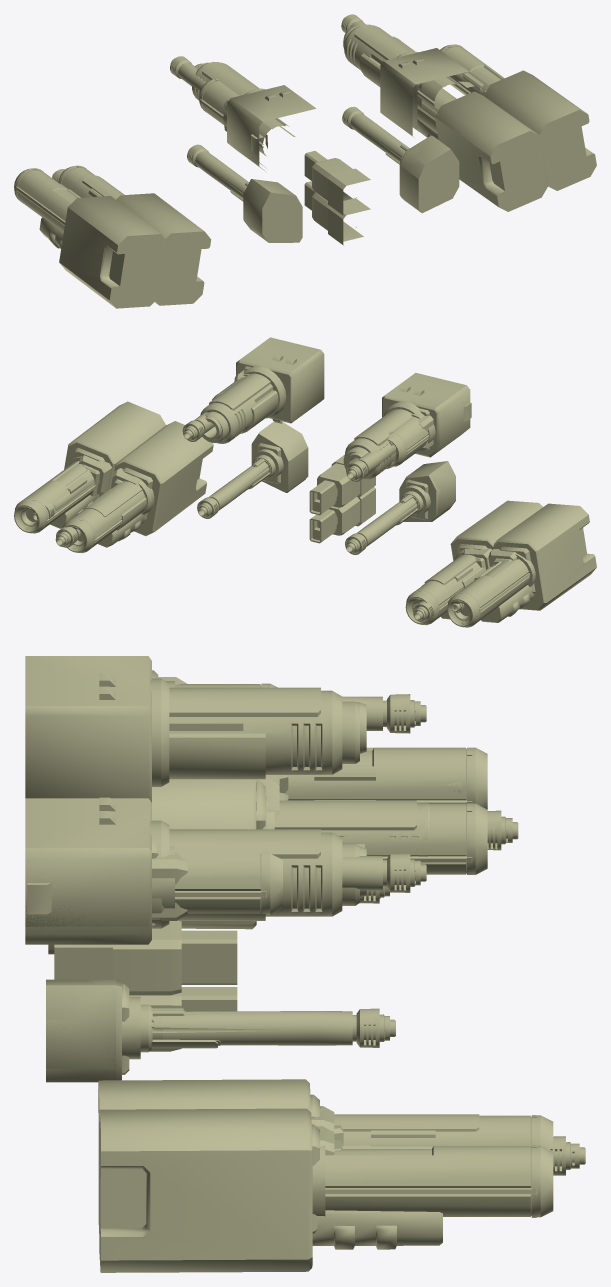
Rendered from FirestarterWeapons.glb.
3 views of the same model, one above another, from view 1: azimuth 30°, elevation 25°; view 2: azimuth 150°, elevation 25°; view 3: azimuth 270°, elevation 25° (orthographic). The views are drawn at different scales.
Visible parts, largest first — view 1: Forearm_Left_EH2_PPC, Forearm_Right_EH2_PPC, Forearm_Right_EH1_PPC, Torso_Right_BH1_AC20, Forearm_Right_BH1_AC10, Forearm_Left_EH1_PPC, Torso_Right_BH2_AC5, Torso_Left_BH2_AC5, Forearm_Left_BH1_AC10, Torso_Left_BH1_AC10, Torso_Left_BH1_AC20, Torso_Left_BH2_AC2 (+13 smaller); view 2: Forearm_Left_EH2_PPC, Forearm_Right_EH1_PPC, Forearm_Right_EH2_PPC, Torso_Right_BH1_AC20, Torso_Left_BH1_AC20, Forearm_Left_BH1_AC10, Torso_Right_BH2_AC5, Torso_Left_BH2_AC5, Torso_Left_BH1_AC10, Torso_Left_EH1_PPC, Torso_Right_BH1_AC10, Forearm_Right_BH1_AC10 (+12 smaller); view 3: Forearm_Right_EH2_PPC, Torso_Left_BH1_AC20, Torso_Right_BH1_AC10, Torso_Right_BH1_AC20, Torso_Right_BH2_AC5, Forearm_Left_EH1_PPC, Forearm_Left_BH1_AC10, Forearm_Left_EH2_PPC, Forearm_Right_EH1_PPC, Torso_Right_EH1_PPC, Torso_Left_BH1_AC10, Torso_Right_BH2_AC2 (+11 smaller).
Part boxes in pixels (bbox=[...]): Forearm_Left_EH2_PPC: bbox=[14, 168, 164, 308]; Forearm_Right_EH2_PPC: bbox=[440, 44, 596, 190]; Forearm_Right_EH1_PPC: bbox=[417, 91, 529, 211]; Torso_Right_BH1_AC20: bbox=[343, 24, 420, 137]; Forearm_Right_BH1_AC10: bbox=[417, 88, 547, 211]; Forearm_Left_EH1_PPC: bbox=[58, 165, 211, 305]; Torso_Right_BH2_AC5: bbox=[342, 106, 459, 212]; Torso_Left_BH2_AC5: bbox=[187, 144, 302, 241]; Forearm_Left_BH1_AC10: bbox=[75, 174, 210, 305]; Torso_Left_BH1_AC10: bbox=[195, 63, 310, 154]; Torso_Left_BH1_AC20: bbox=[192, 61, 316, 172]; Torso_Left_BH2_AC2: bbox=[188, 148, 302, 242]; Forearm_Left_EH2_PPC: bbox=[447, 503, 596, 627]; Forearm_Right_EH1_PPC: bbox=[63, 421, 213, 553]; Forearm_Right_EH2_PPC: bbox=[14, 401, 165, 533]; Torso_Right_BH1_AC20: bbox=[200, 348, 324, 443]; Torso_Left_BH1_AC20: bbox=[343, 372, 471, 479]; Forearm_Left_BH1_AC10: bbox=[422, 500, 542, 619]; Torso_Right_BH2_AC5: bbox=[197, 424, 308, 518]; Torso_Left_BH2_AC5: bbox=[345, 461, 455, 554]; Torso_Left_BH1_AC10: bbox=[346, 374, 470, 466]; Torso_Left_EH1_PPC: bbox=[387, 387, 466, 466]; Torso_Right_BH1_AC10: bbox=[203, 337, 315, 440]; Forearm_Right_BH1_AC10: bbox=[85, 421, 174, 547]; Forearm_Right_EH2_PPC: bbox=[99, 1108, 553, 1272]; Torso_Left_BH1_AC20: bbox=[25, 678, 359, 802]; Torso_Right_BH1_AC10: bbox=[25, 797, 366, 926]; Torso_Right_BH1_AC20: bbox=[25, 798, 359, 944]; Torso_Right_BH2_AC5: bbox=[46, 979, 384, 1082]; Forearm_Left_EH1_PPC: bbox=[152, 780, 487, 929]; Forearm_Left_BH1_AC10: bbox=[152, 779, 429, 856]; Forearm_Left_EH2_PPC: bbox=[285, 747, 487, 809]; Forearm_Right_EH1_PPC: bbox=[98, 1079, 553, 1151]; Torso_Right_EH1_PPC: bbox=[29, 843, 282, 915]; Torso_Left_BH1_AC10: bbox=[25, 656, 366, 753]; Torso_Right_BH2_AC2: bbox=[46, 985, 395, 1082].
Size of the model in its own units: 1.46 by 0.4933 by 0.7465.
